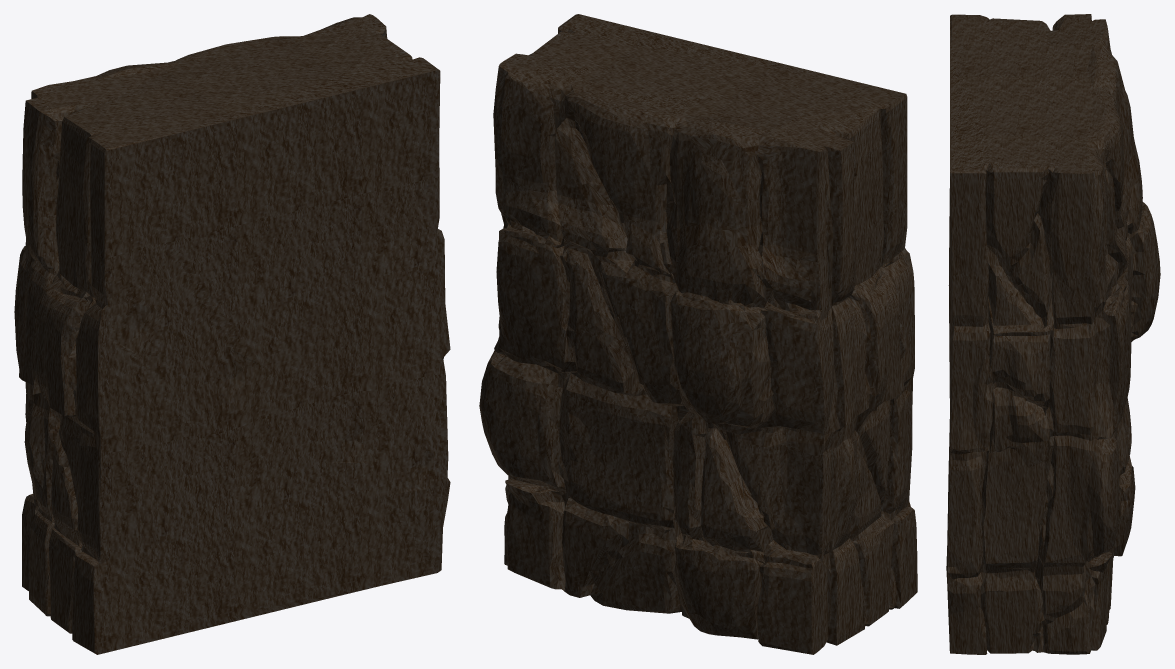
The model's file is cave-wall4_bkp2.glb.
3 views of the same model, side by side, from view 1: azimuth 30°, elevation 25°; view 2: azimuth 150°, elevation 25°; view 3: azimuth 270°, elevation 25° (orthographic). The views are drawn at different scales.
Visible parts, largest first — view 1: Cube.003; view 2: Cube.003; view 3: Cube.003.
Part boxes in pixels (x1=…): Cube.003: x1=14, y1=14, x2=450, y2=654; Cube.003: x1=479, y1=14, x2=917, y2=654; Cube.003: x1=946, y1=14, x2=1160, y2=654.
Size of the model in its own units: 4.72 by 6.12 by 2.42.
Materials: 1 (1 with a texture image).
